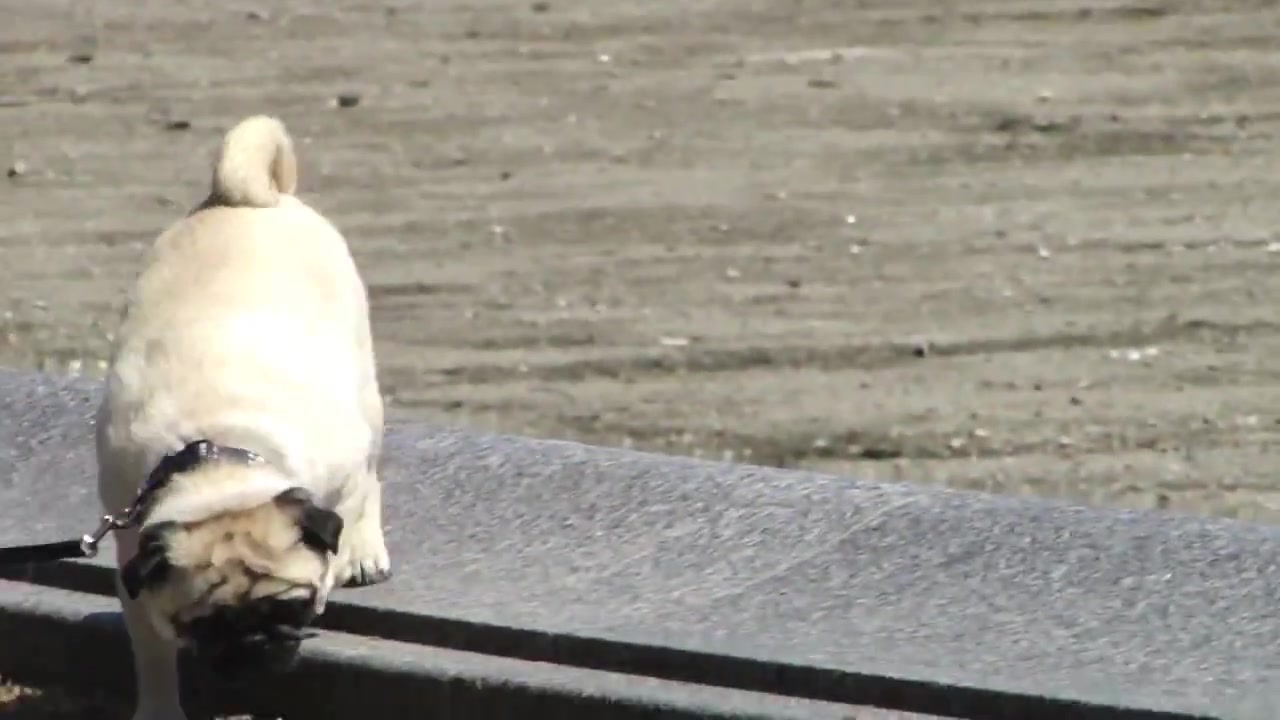dog: (94, 116, 388, 720)
